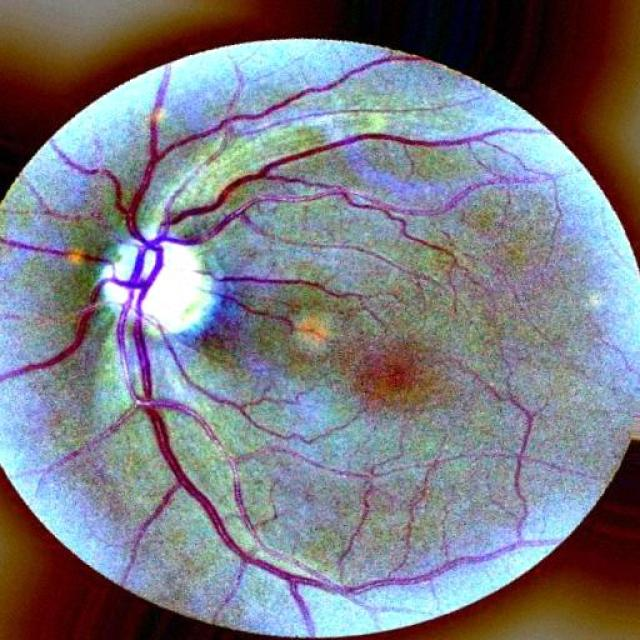Macula: (293, 310, 333, 354)
Nerves: (54, 71, 355, 605), (107, 286, 248, 503), (150, 131, 427, 236), (5, 269, 145, 384), (150, 305, 270, 426), (4, 231, 125, 271)
Optic Disk: (91, 235, 218, 334)
